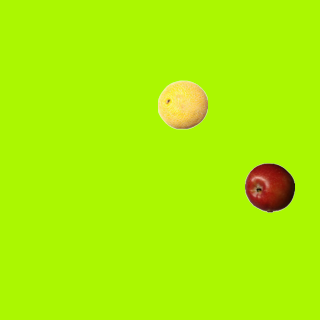Apple Braeburn: (244, 162, 294, 212)
Cantaloupe 1: (157, 79, 207, 129)
